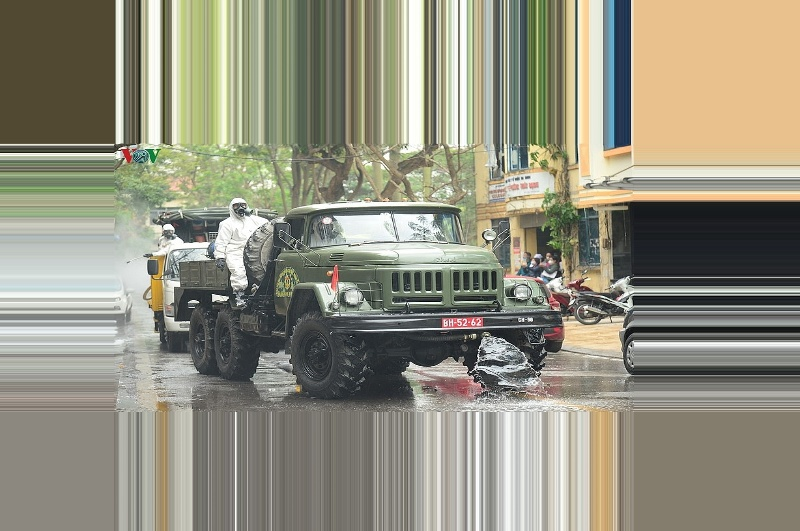plate: (442, 313, 485, 330)
